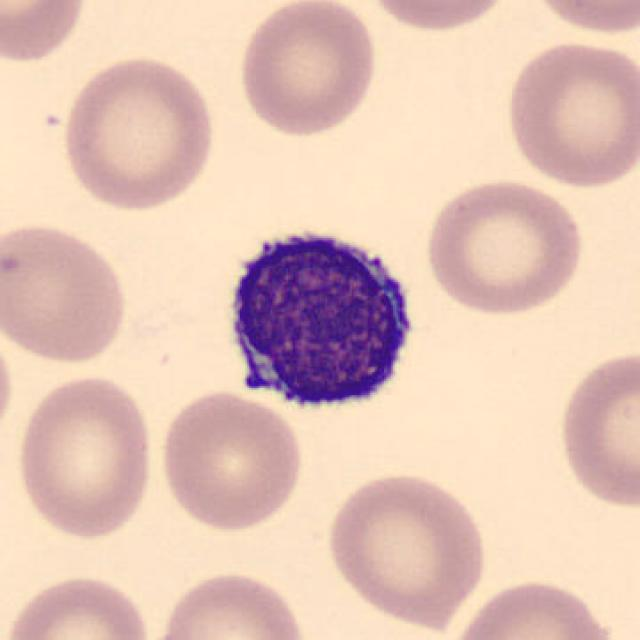Basophil: (212, 210, 426, 426)
RBC: (320, 467, 492, 631), (55, 51, 219, 213), (11, 370, 158, 543), (420, 175, 588, 319), (154, 386, 306, 534), (502, 35, 638, 192), (232, 0, 382, 139), (0, 217, 133, 367), (553, 344, 638, 513), (444, 575, 626, 640), (151, 567, 313, 640), (1, 569, 154, 640), (0, 0, 91, 67), (360, 0, 517, 35), (521, 0, 640, 39), (0, 317, 18, 448)
